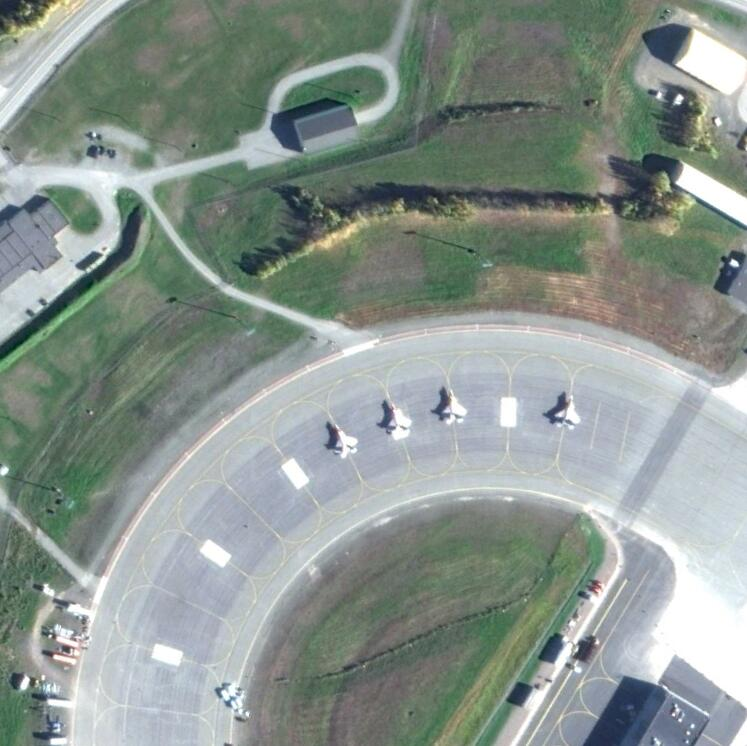A15: (326, 424, 360, 460), (551, 393, 582, 432), (381, 402, 413, 439), (437, 388, 467, 427)
